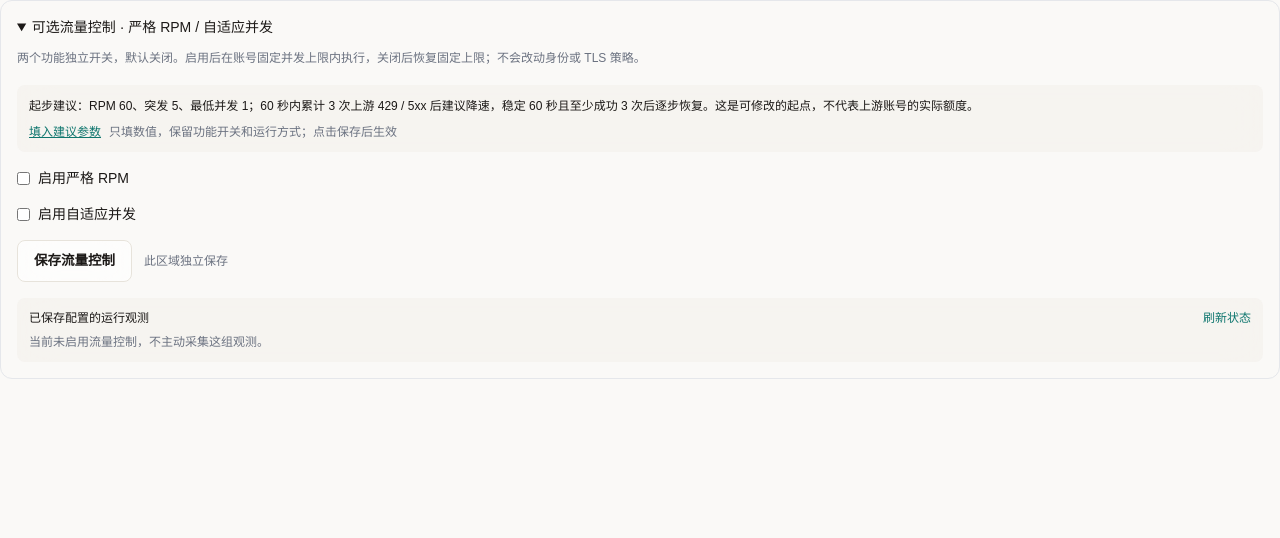
Scenario: optional account traffic controls › does not save a burst larger than the rolling minute limit
This screenshot has width=1280, height=538.
Click the checkbox with test id "strict-rpm-toggle": point(24, 178) [17, 172, 30, 184]
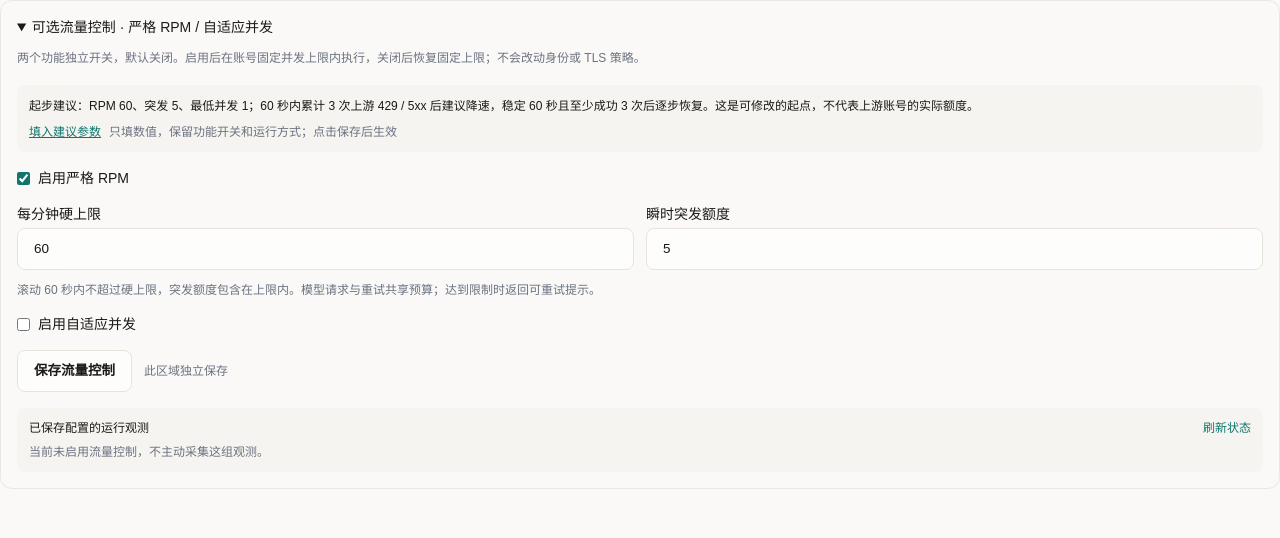
Replace the text in the number field labelled "每分钟硬上限" with "2": point(326, 249) [17, 228, 634, 270]
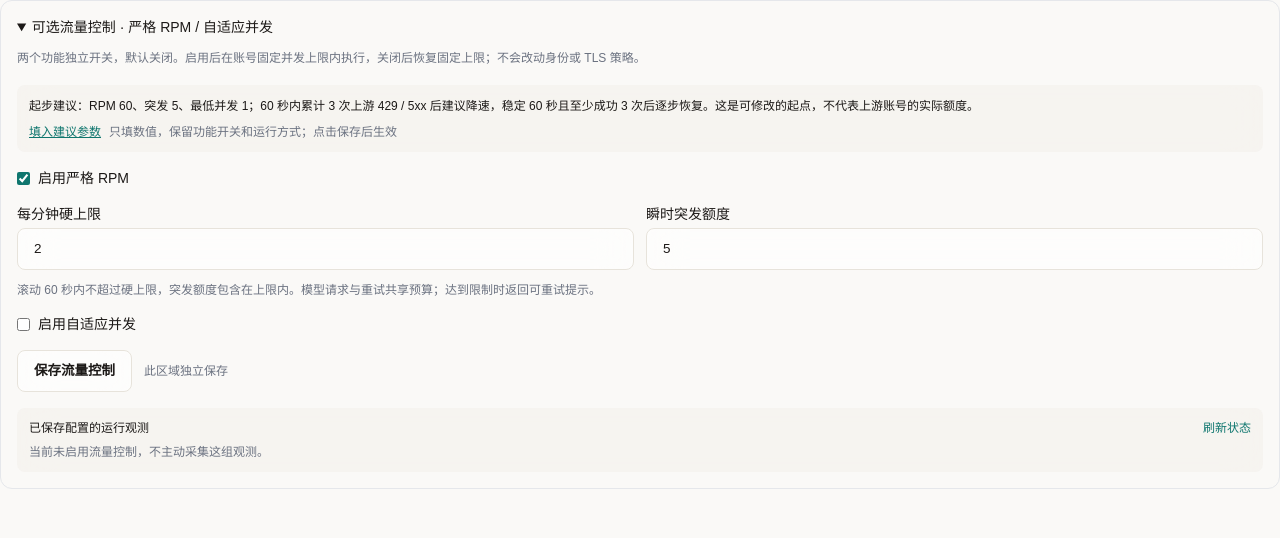
Replace the text in the number field labelled "瞬时突发额度" with "3": point(954, 249) [646, 228, 1263, 270]
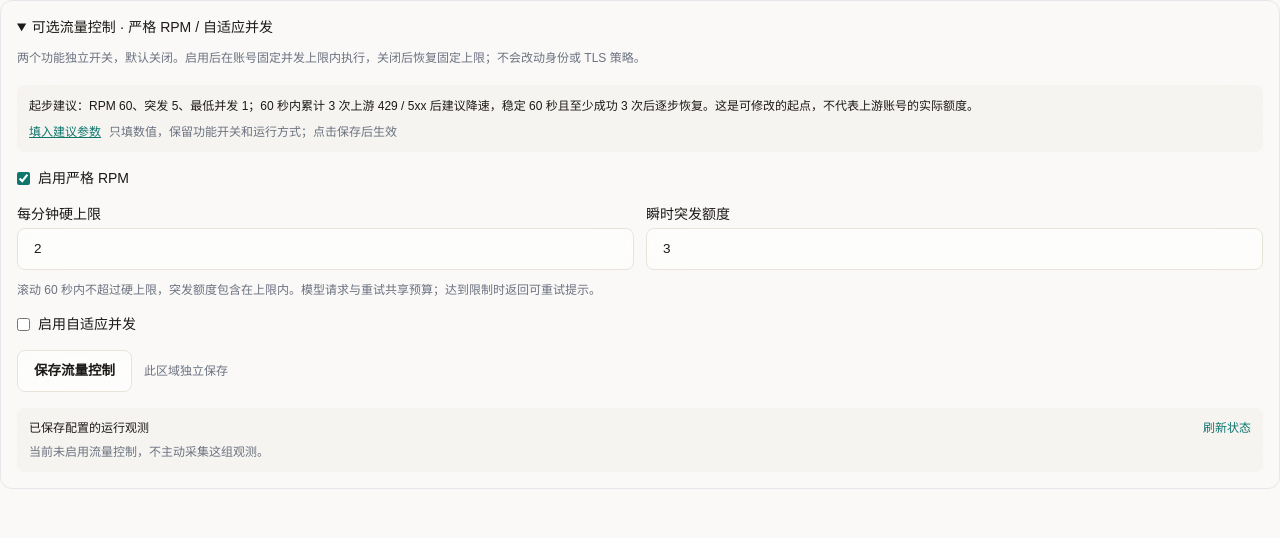
Click the button "保存流量控制": point(74, 371) [17, 350, 132, 392]
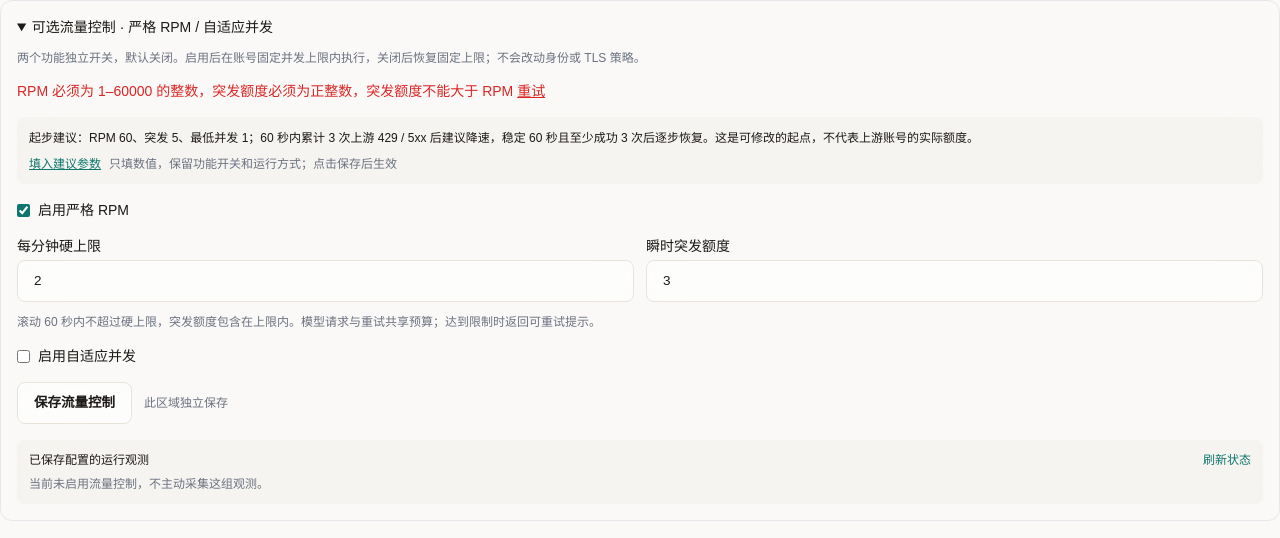
Check: the element that starts with "可选流量控制 · 严格 RPM / 自适应并发" shows "突发额度不能大于 RPM", box [17, 82, 517, 98]
